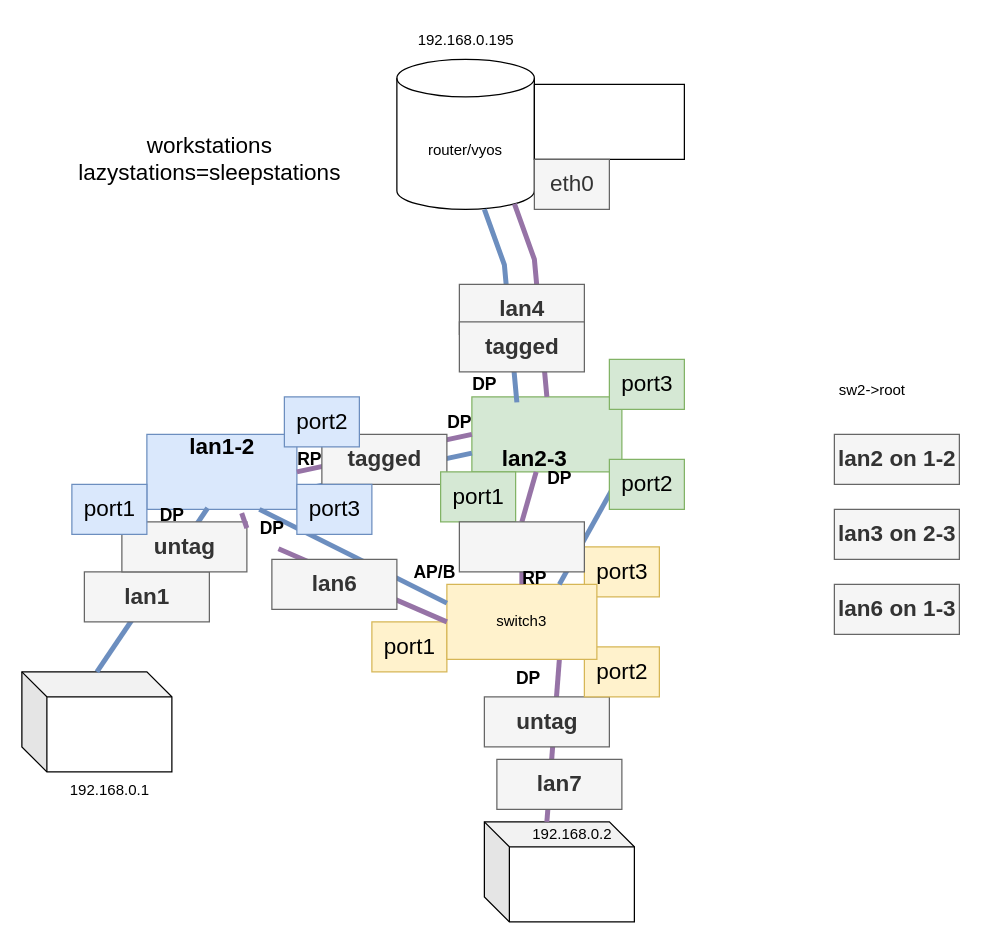
Image size: 981x944. Some labels were removed from this diagram. The box of each missing label's shape, as (x1, y1, x2, y2) in pixels:
08:00:27:f6:24:03 eth0: (533, 83, 684, 159)
lan3: (458, 521, 584, 572)
lubuntu1: (21, 671, 172, 772)
lubuntu2: (483, 821, 634, 922)
switch1: (146, 433, 297, 509)
switch2: (471, 396, 622, 472)
